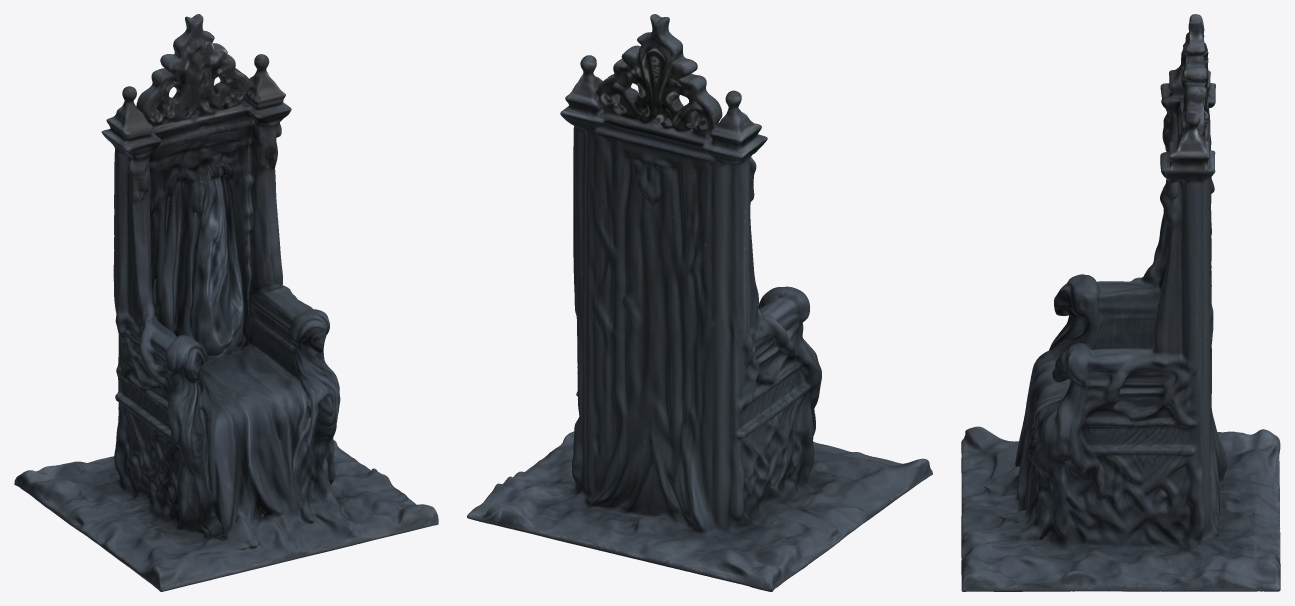
File: throne.glb
The picture shows the model from 3 angles, left to right: view 1: azimuth 30°, elevation 25°; view 2: azimuth 150°, elevation 25°; view 3: azimuth 270°, elevation 25°; orthographic projection. The views are drawn at different scales.
Size of the model in its own units: 1.26 by 2 by 1.16.
1 material, 1 textured.
